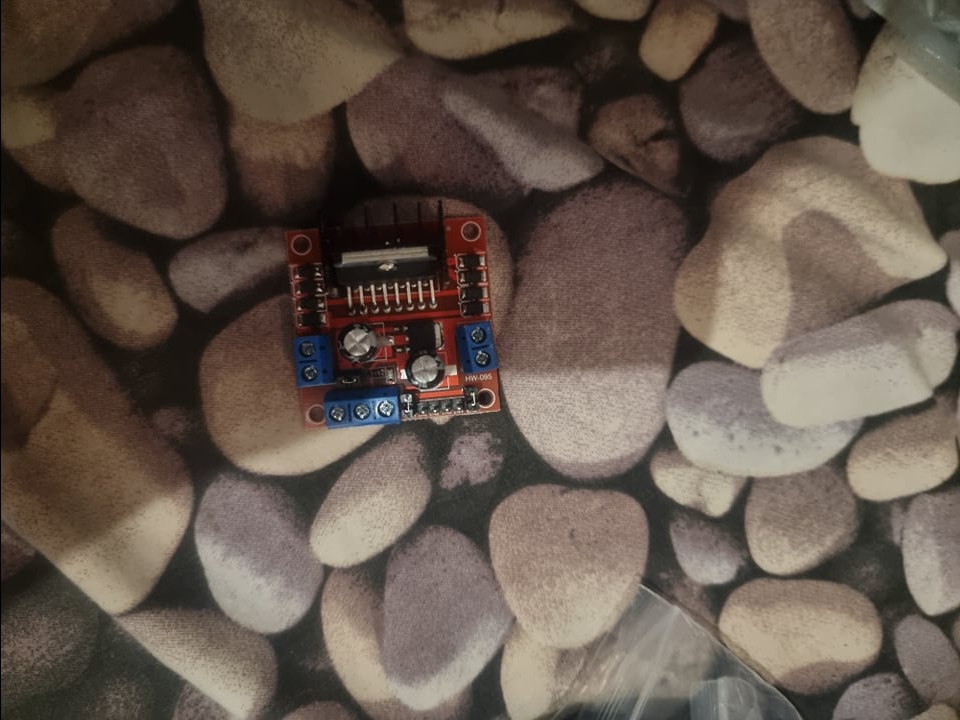MOTOR: (277, 213, 500, 431)
